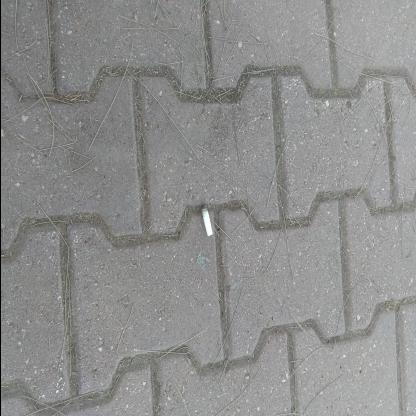diger: (200, 206, 212, 236)
